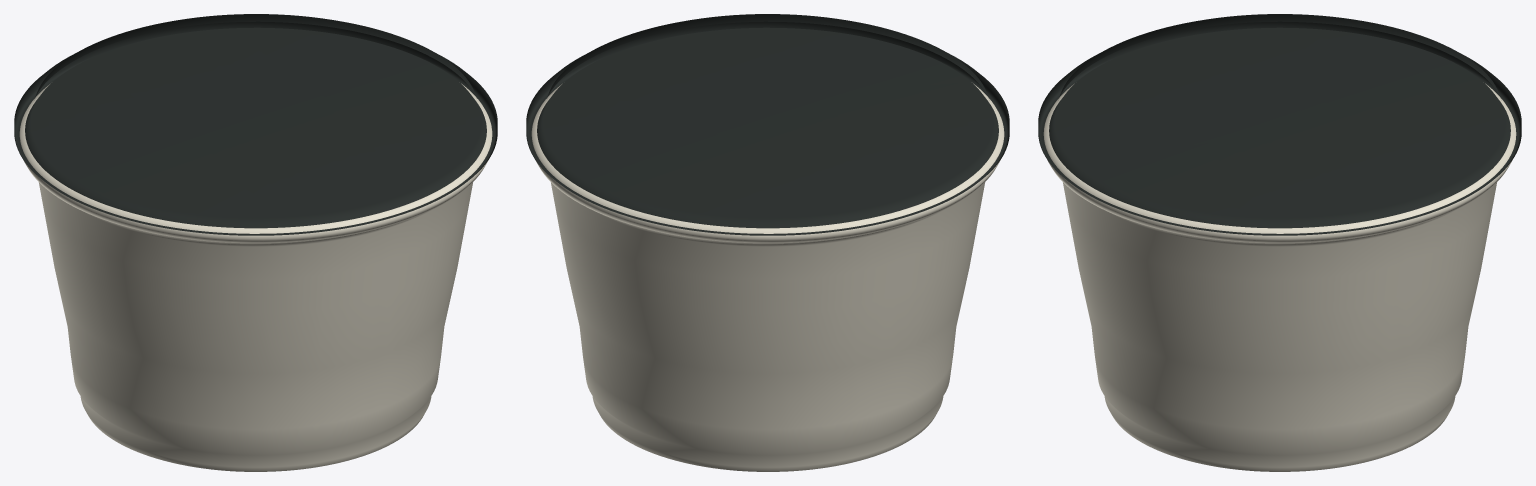
The model's file is deli.glb.
3 views of the same model, side by side, from view 1: azimuth 30°, elevation 25°; view 2: azimuth 150°, elevation 25°; view 3: azimuth 270°, elevation 25° (orthographic).
Visible parts, largest first — view 1: Body, Lid; view 2: Body, Lid; view 3: Body, Lid.
Boxes of the visible parts, x1,y1,x2,y2 form: Body: (19, 83, 492, 471); Lid: (14, 14, 497, 235); Body: (531, 83, 1004, 471); Lid: (526, 14, 1009, 235); Body: (1043, 83, 1516, 471); Lid: (1038, 14, 1521, 235).
Bounding box in the file's own units: 0.146 × 0.098 × 0.146.
